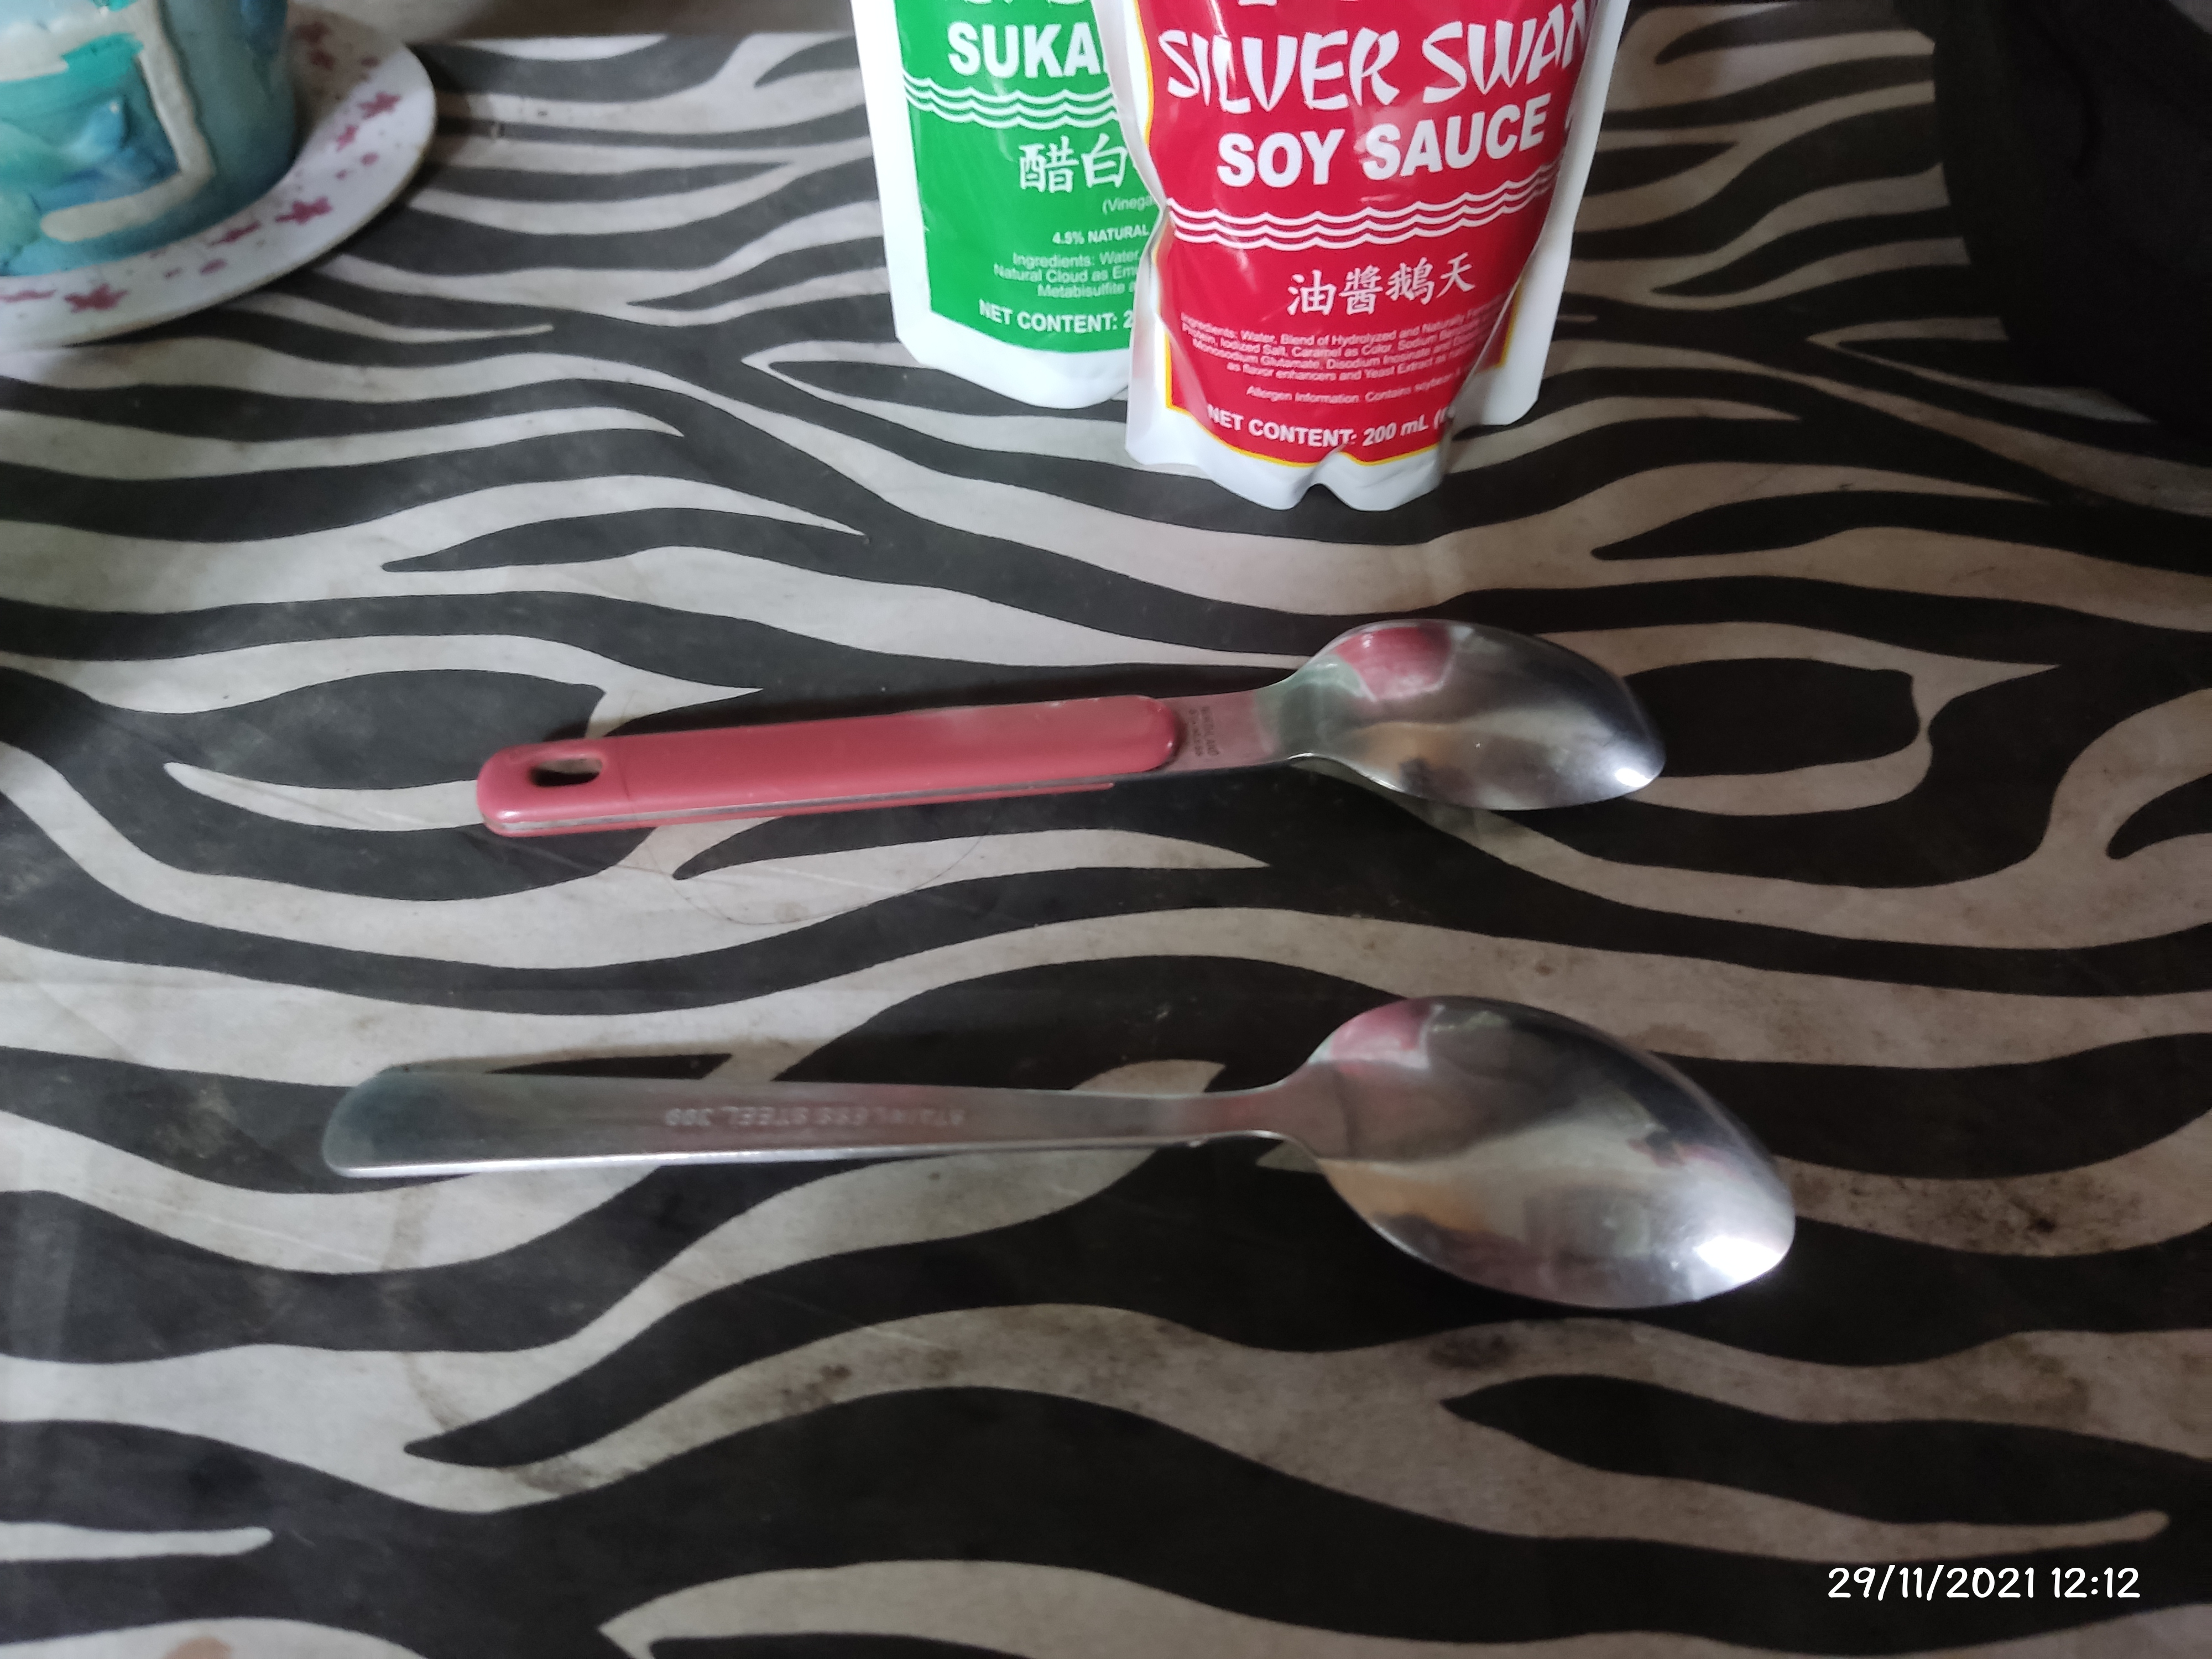spoon: (327, 990, 1794, 1305), (479, 626, 1663, 819)
